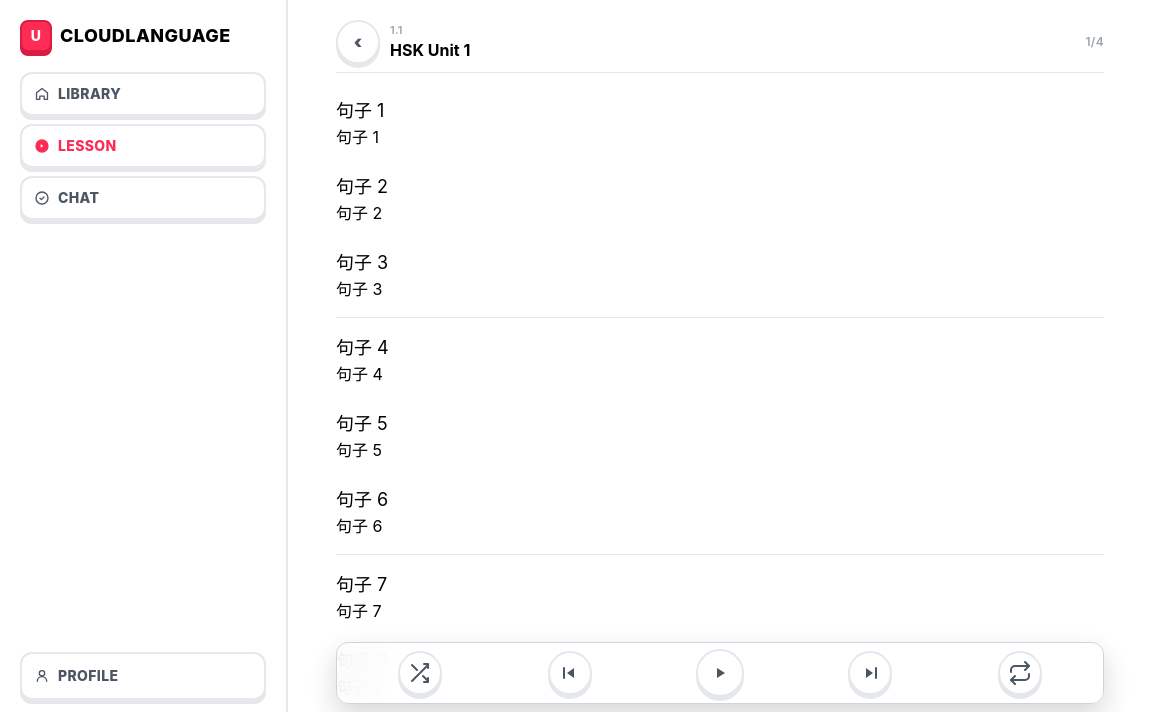
Test: App lesson navigation guard › keeps HSK autoplay selection/audio aligned when crossing to next unit
Click the button named "Read" at (720, 673), box left=696, top=649, right=744, bottom=697
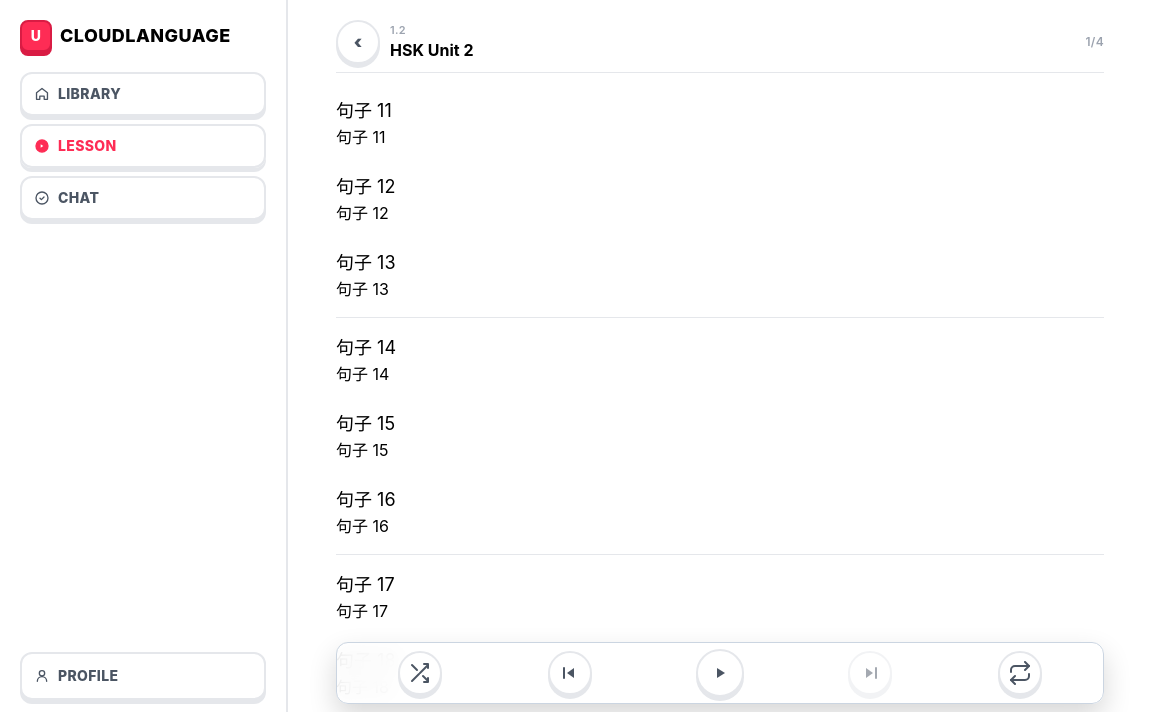
Result: the 1st text "句子 11" is shown at left=336, top=100, right=392, bottom=121
